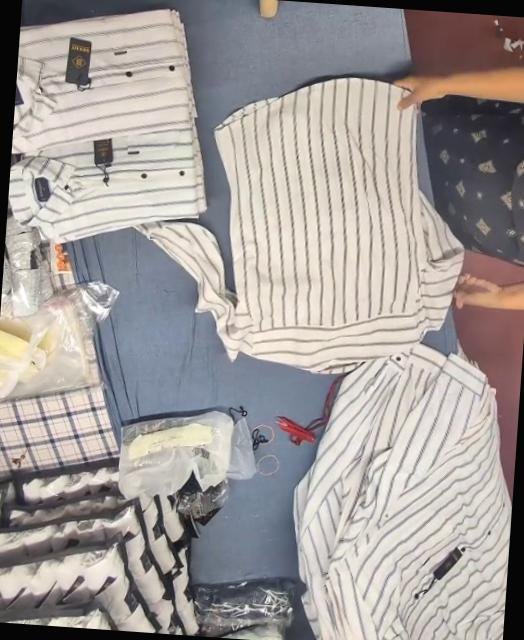new-garment: (143, 78, 462, 372)
